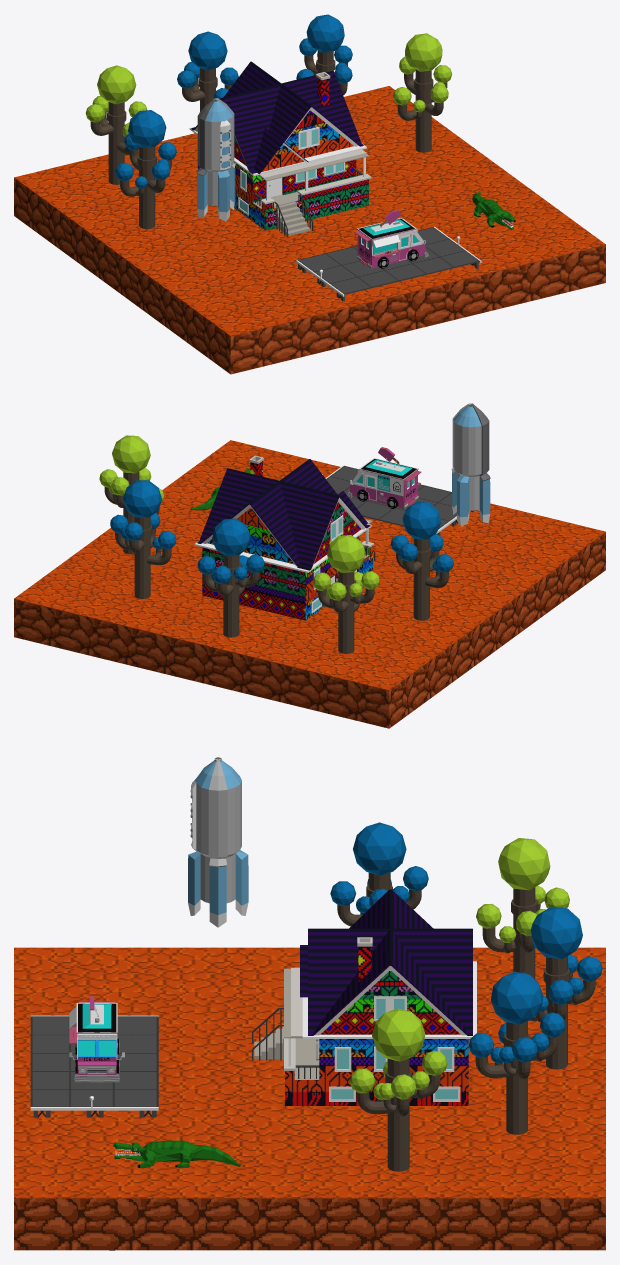
3 views of the same model, one above another, from view 1: azimuth 30°, elevation 25°; view 2: azimuth 150°, elevation 25°; view 3: azimuth 270°, elevation 25° (orthographic). The views are drawn at different scales.
Visible parts, largest first — view 1: Cube.001, Cube.966, OBJRANDOM_ROCKETSHIP, VEHICLES_ICE_CREAM_TRUCK, ANIMAL_COCODRILO; view 2: Cube.001, Cube.966, OBJRANDOM_ROCKETSHIP, VEHICLES_ICE_CREAM_TRUCK; view 3: Cube.001, Cube.966, OBJRANDOM_ROCKETSHIP, VEHICLES_ICE_CREAM_TRUCK, ANIMAL_COCODRILO.
Part boxes in pixels (<box>): Cube.001: <box>14,14,605,374</box>; Cube.966: <box>189,61,371,236</box>; OBJRANDOM_ROCKETSHIP: <box>196,98,235,221</box>; VEHICLES_ICE_CREAM_TRUCK: <box>354,209,428,268</box>; ANIMAL_COCODRILO: <box>472,191,515,230</box>; Cube.001: <box>14,435,605,728</box>; Cube.966: <box>194,455,375,620</box>; OBJRANDOM_ROCKETSHIP: <box>451,403,490,526</box>; VEHICLES_ICE_CREAM_TRUCK: <box>347,447,421,508</box>; Cube.001: <box>14,822,605,1250</box>; Cube.966: <box>252,889,476,1105</box>; OBJRANDOM_ROCKETSHIP: <box>188,757,248,927</box>; VEHICLES_ICE_CREAM_TRUCK: <box>69,996,124,1082</box>; ANIMAL_COCODRILO: <box>113,1140,240,1168</box>.
Size of the model in its own units: 4000 by 2149 by 4000.
47 materials, 8 textured.
